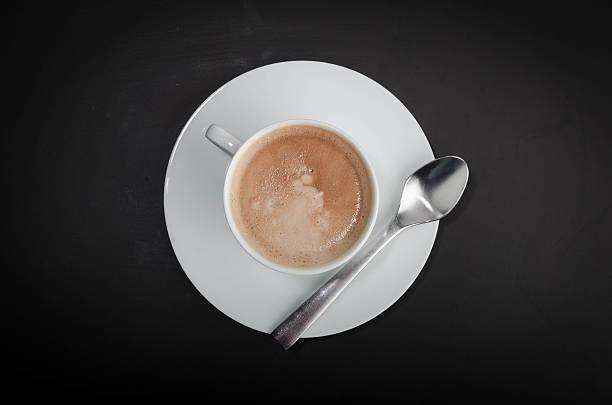cup-handle: (203, 116, 381, 280)
